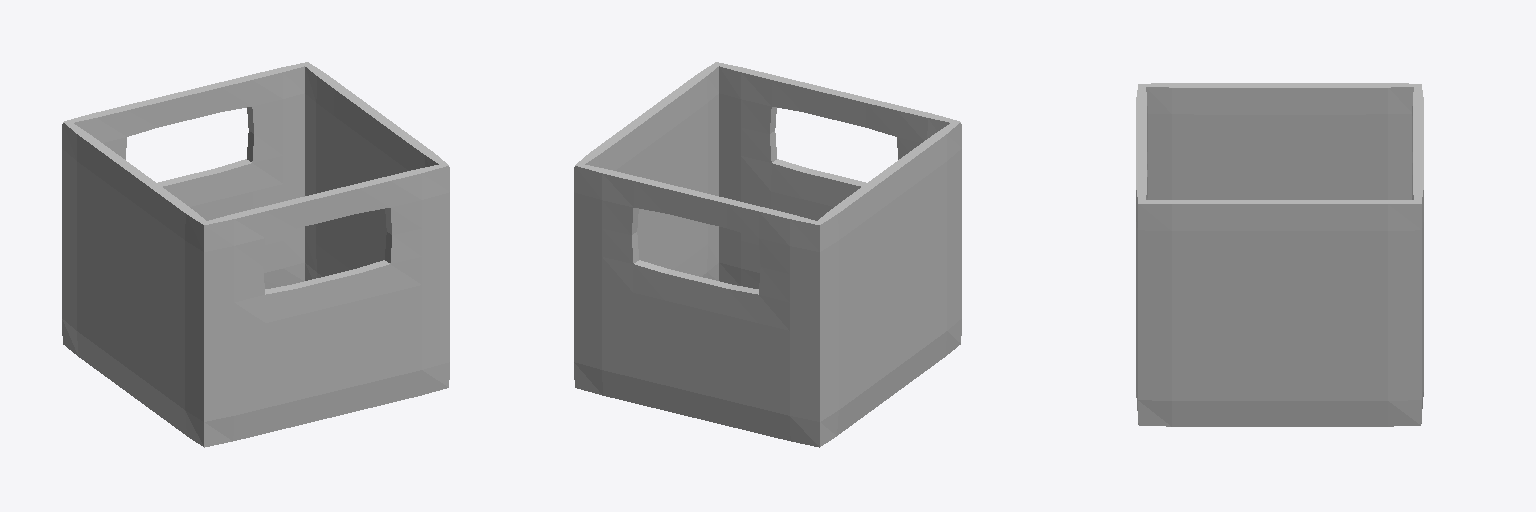
File: Basket.obj
3 renders of one model, left to right at view 1: azimuth 30°, elevation 25°; view 2: azimuth 150°, elevation 25°; view 3: azimuth 270°, elevation 25°, orthographic.
Parts seen in each view (by area): view 1: Cube; view 2: Cube; view 3: Cube.
Part boxes in pixels (left/top/right/bottom): Cube: left=62, top=62, right=449, bottom=447; Cube: left=574, top=62, right=961, bottom=447; Cube: left=1136, top=83, right=1423, bottom=426.
Size of the model in its own units: 7.77 by 6.67 by 7.77.